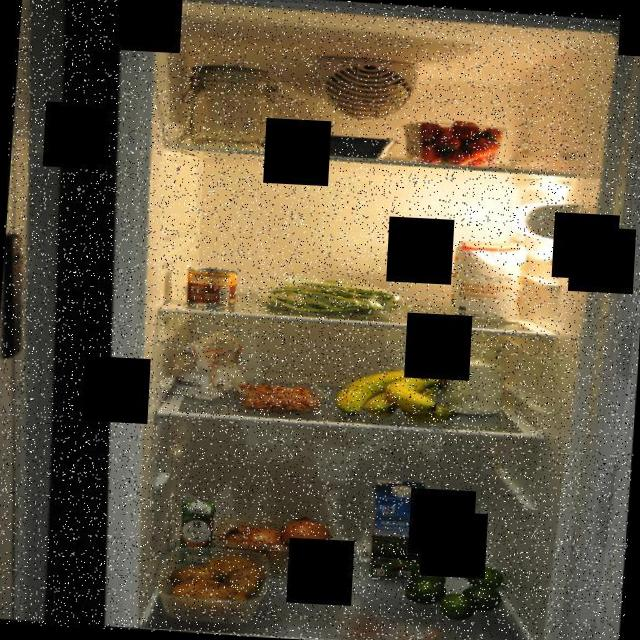Cebolla: (210, 510, 335, 576)
Gambas/Langostinos: (235, 382, 322, 416)
Leche: (366, 477, 432, 582)
Patata: (156, 542, 274, 627)
Plátano: (332, 364, 462, 426)
corn: (184, 266, 238, 310)
flour: (175, 57, 285, 155), (162, 326, 246, 404)
green_beans: (258, 276, 418, 322)
heavy_cream: (177, 498, 215, 566)
strawberries: (398, 114, 508, 170)
sugar: (449, 238, 530, 326), (433, 327, 509, 418)
